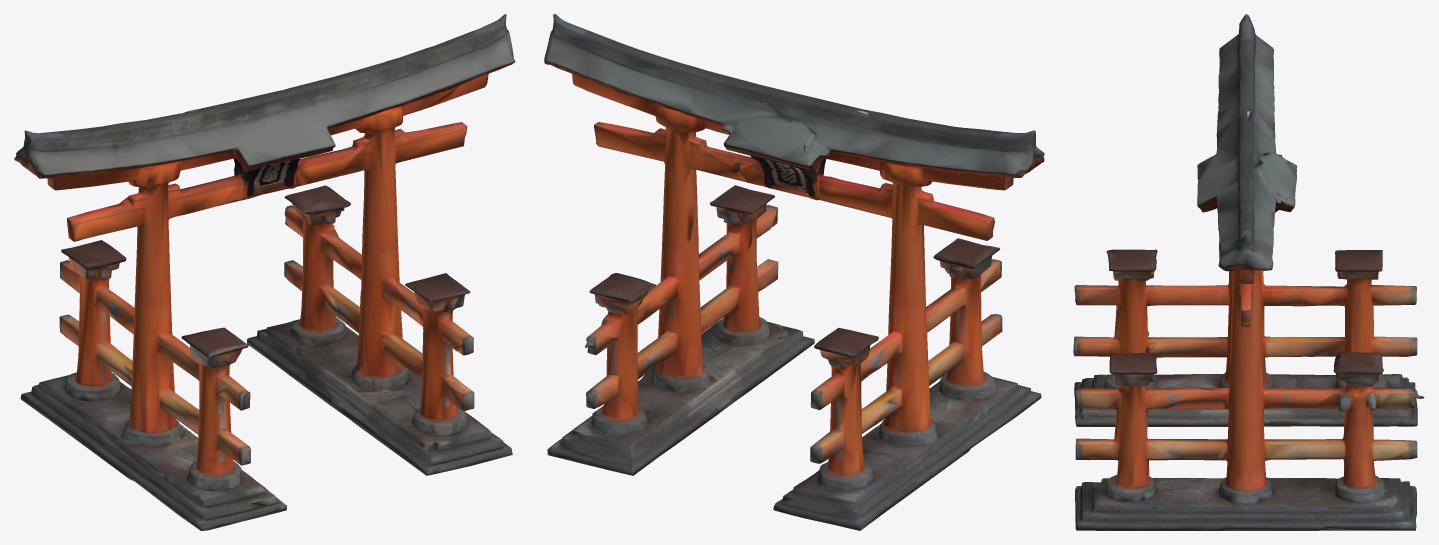
File: torii.glb
3 views of the same model, side by side, from view 1: azimuth 30°, elevation 25°; view 2: azimuth 150°, elevation 25°; view 3: azimuth 270°, elevation 25° (orthographic). The views are drawn at different scales.
Size of the model in its own units: 2 by 1.4 by 1.33.
1 material, 1 textured.
